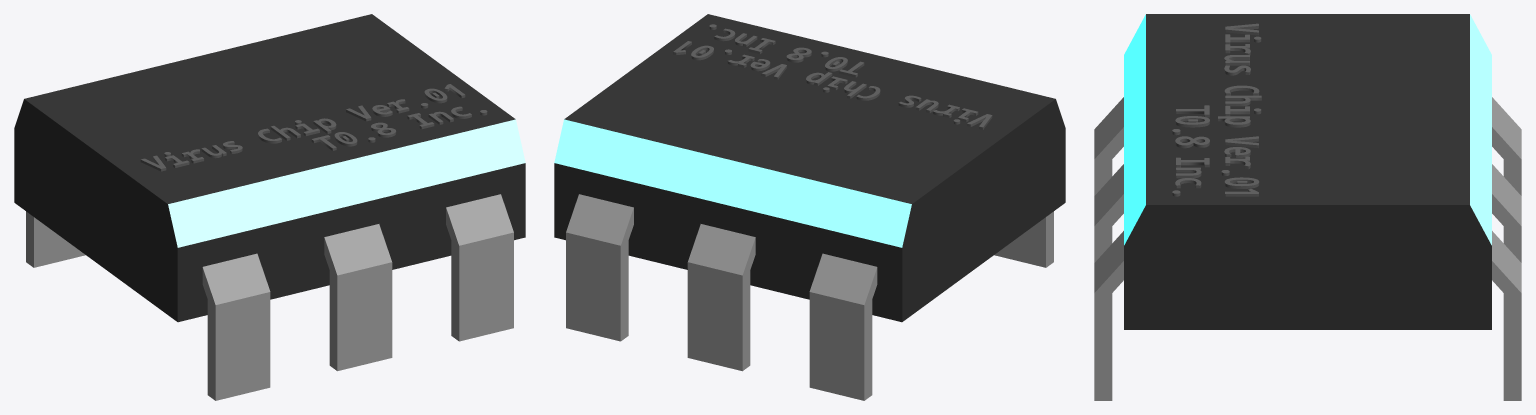
File: Virus01_Small_level01.fbx
3 renders of one model, left to right at view 1: azimuth 30°, elevation 25°; view 2: azimuth 150°, elevation 25°; view 3: azimuth 270°, elevation 25°, orthographic. The views are drawn at different scales.
Parts seen in each view (by area): view 1: Virus_01; view 2: Virus_01; view 3: Virus_01.
Boxes of the visible parts, x1,y1,x2,y2 form: Virus_01: (14, 14, 525, 400); Virus_01: (554, 14, 1065, 400); Virus_01: (1094, 14, 1521, 400).
Bounding box in the file's own units: 200 × 104 × 189.
